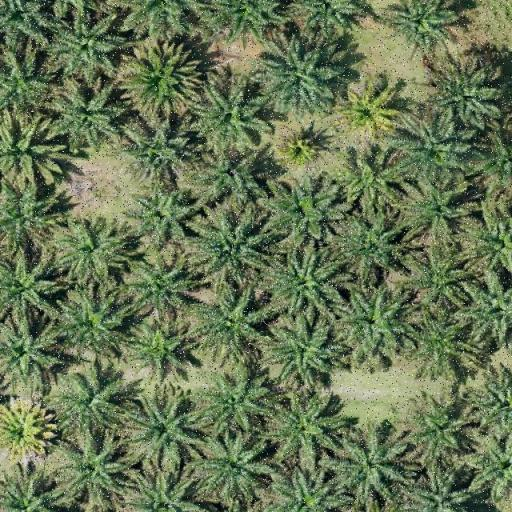Ganoderma: (1, 410, 46, 454), (344, 90, 391, 130), (285, 134, 321, 164)
